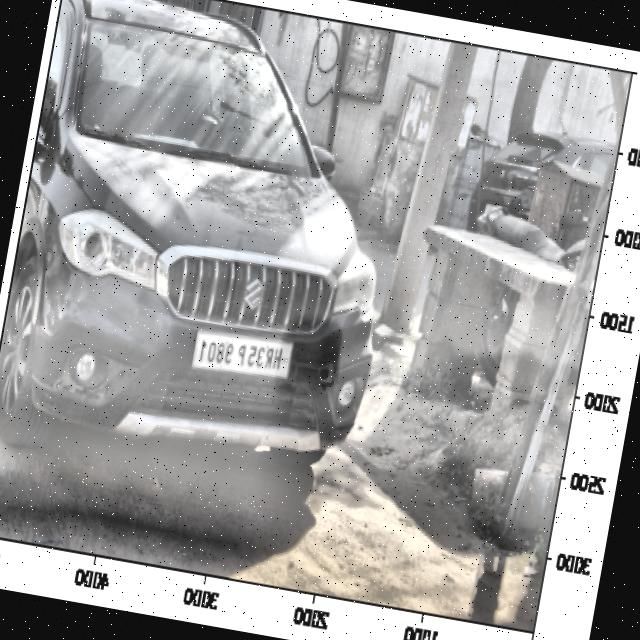license_plate: (190, 324, 292, 384)
